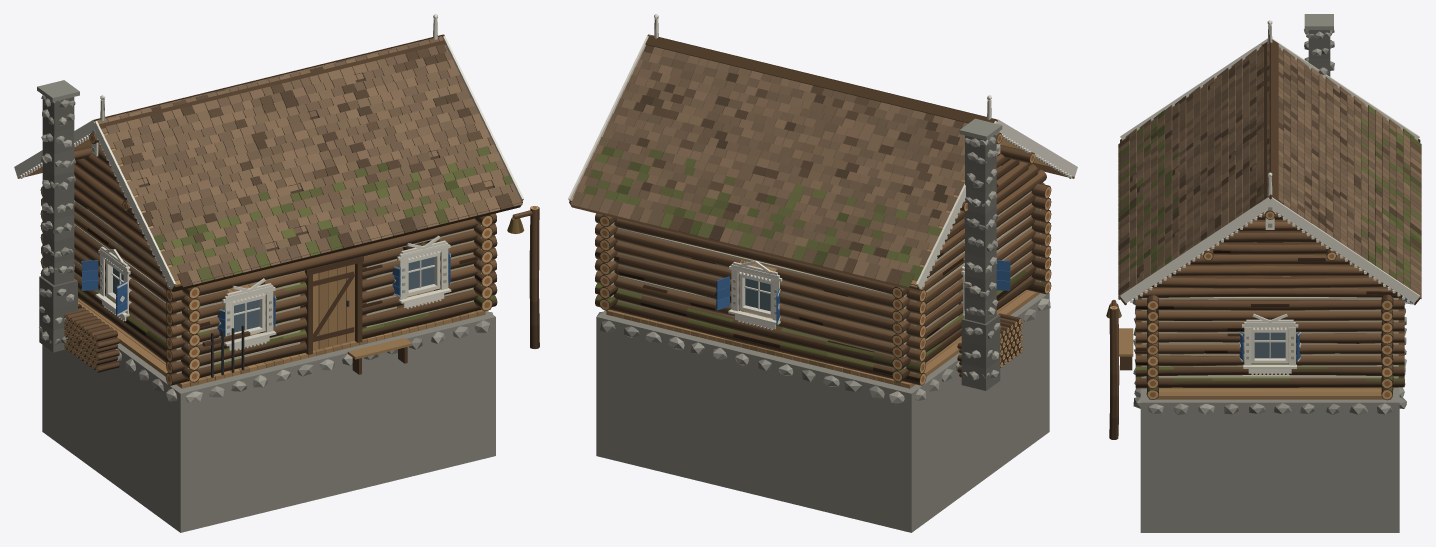
Rendered from kisla.glb.
The picture shows the model from 3 angles, left to right: view 1: azimuth 30°, elevation 25°; view 2: azimuth 150°, elevation 25°; view 3: azimuth 270°, elevation 25°; orthographic projection. The views are drawn at different scales.
Visible parts, largest first — view 1: stone-plinth-001, shingle-003, shingle-002, shingle-001, log-059, plank-door-004, plank-001, wood-pile-003, plank-trim-008, dark-003, plank-barge-002, plank-trim-005 (+36 smaller); view 2: stone-plinth-001, shingle-006, shingle-005, shingle-004, dark-003, log-008, log-060, log-003, plank-001, plank-trim-017, plank-barge-002, stone-found-003 (+37 smaller); view 3: stone-plinth-001, shingle-003, shingle-006, shingle-005, shingle-002, shingle-001, shingle-004, plank-barge-003, log-062, log-066, plank-001, log-058 (+25 smaller).
Boxes of the visible parts, box(x1,y1,x2,y2) form: stone-plinth-001: box(42, 311, 495, 532); shingle-003: box(149, 144, 522, 287); shingle-002: box(126, 90, 493, 231); shingle-001: box(97, 37, 469, 179); log-059: box(166, 213, 496, 302); plank-door-004: box(313, 264, 355, 350); plank-001: box(78, 283, 485, 388); wood-pile-003: box(64, 304, 119, 372); plank-trim-008: box(397, 235, 451, 308); dark-003: box(93, 34, 445, 128); plank-barge-002: box(14, 120, 175, 289); plank-trim-005: box(222, 278, 276, 350); stone-plinth-001: box(596, 292, 1049, 532); shingle-006: box(571, 144, 942, 287); shingle-005: box(598, 90, 964, 230); shingle-004: box(625, 45, 967, 179); dark-003: box(645, 34, 997, 123); log-008: box(595, 283, 925, 373); log-060: box(595, 213, 926, 302); log-003: box(595, 294, 926, 385); plank-001: box(606, 261, 1039, 388); plank-trim-017: box(728, 260, 782, 330); plank-barge-002: box(916, 119, 1077, 289); stone-found-003: box(600, 320, 904, 403); stone-plinth-001: box(1140, 387, 1399, 532); shingle-003: box(1118, 105, 1172, 299); shingle-006: box(1368, 105, 1421, 300); shingle-005: box(1318, 75, 1367, 260); shingle-002: box(1172, 75, 1221, 260); shingle-001: box(1217, 42, 1269, 227); shingle-004: box(1269, 43, 1322, 227); plank-barge-003: box(1120, 197, 1419, 303); log-062: box(1135, 298, 1404, 311); log-066: box(1137, 287, 1402, 299); plank-001: box(1149, 263, 1391, 399); log-058: box(1135, 309, 1404, 322).
Bounding box in the file's own units: 10.22 × 9.79 × 7.68.
